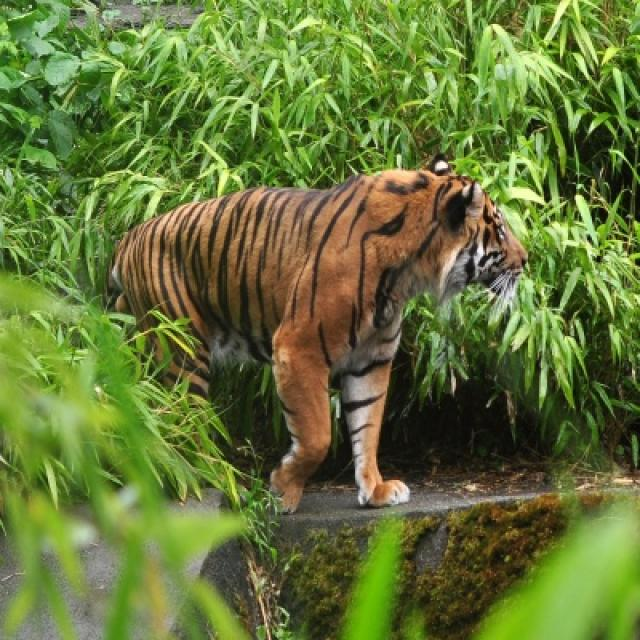Tiger: (112, 166, 532, 504)
